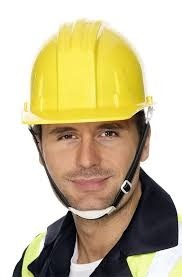helmet: (21, 15, 157, 132)
person with partial safety: (16, 11, 182, 250)
safety vest: (23, 230, 181, 275)
